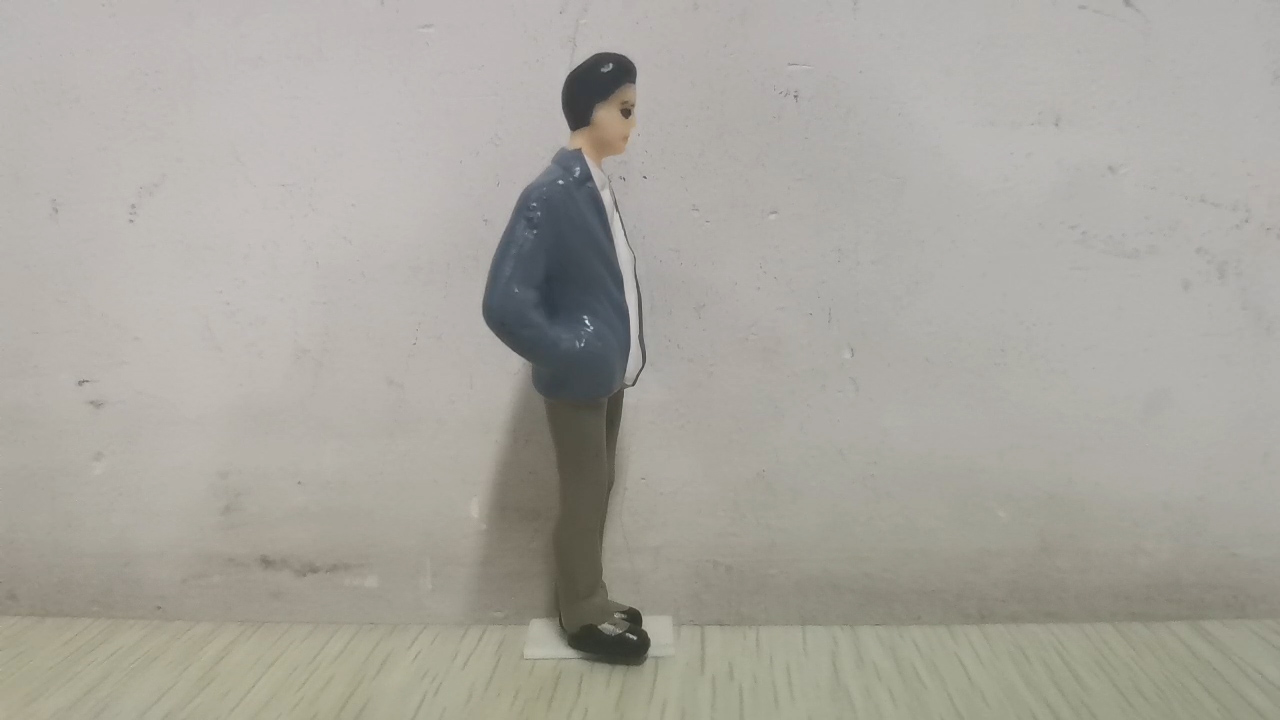person: (481, 49, 654, 658)
